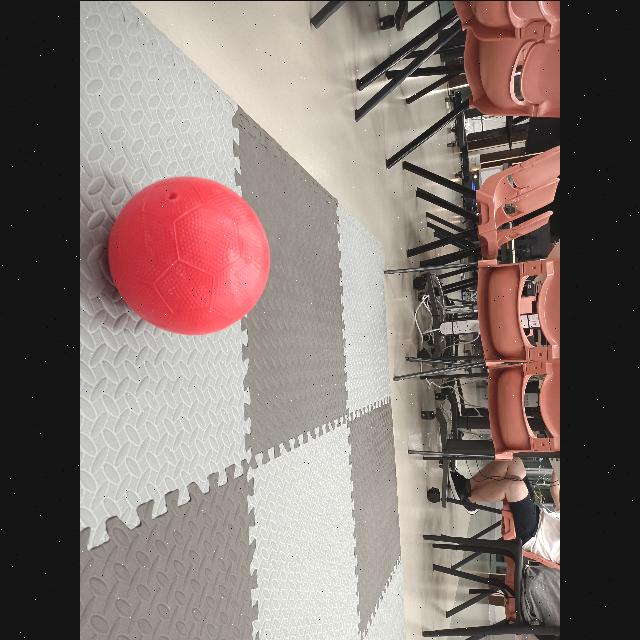R: (104, 175, 274, 332)
